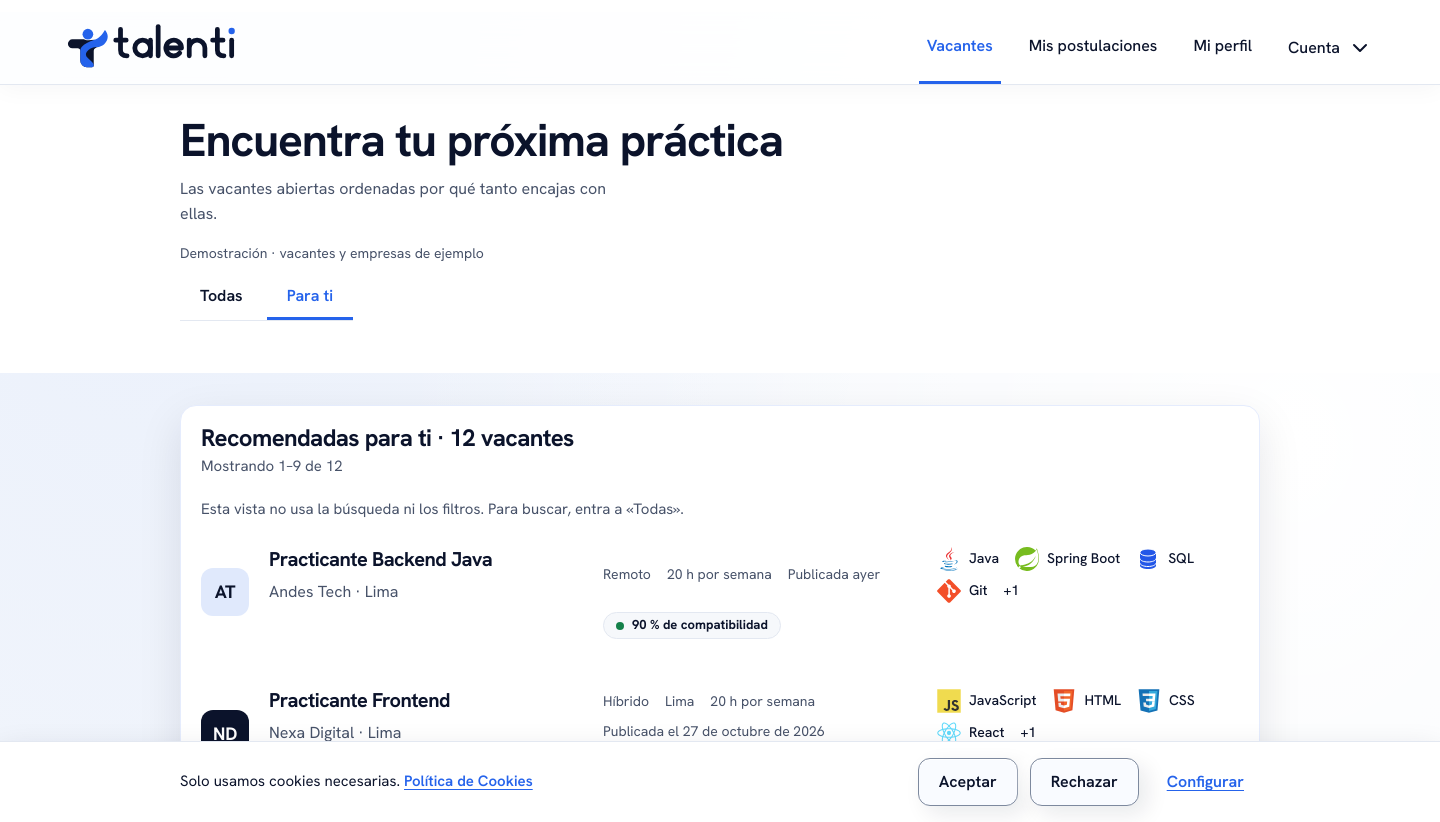
Scenario: "Para ti" view (007-24) › the switch goes back to "Todas" with the usual list
The image size is (1440, 822).
Step 1. Click the link "Todas" → (221,296), box [200,285,243,306]
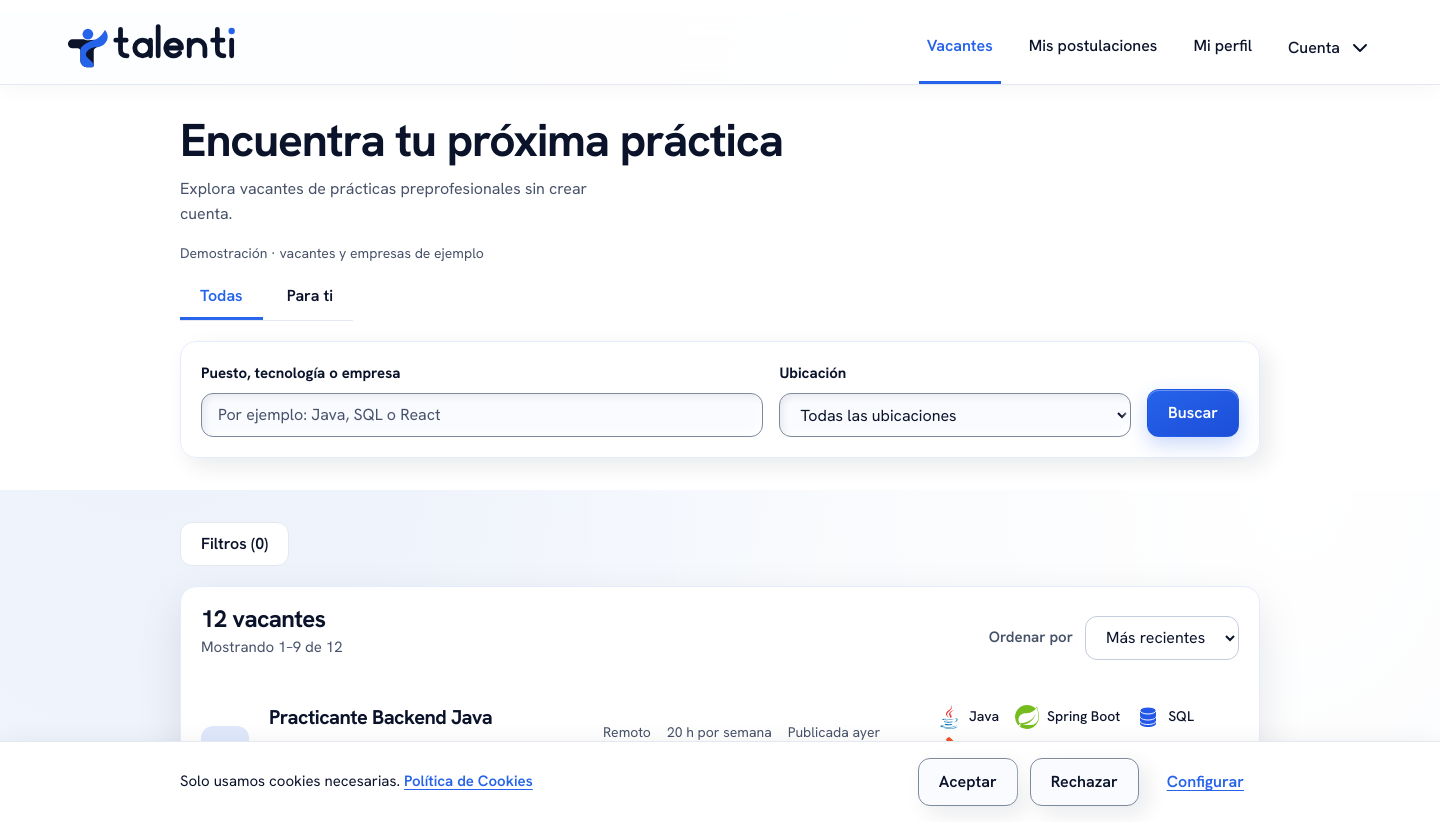
expect the form is shown: met, box [180,341,1260,458]
